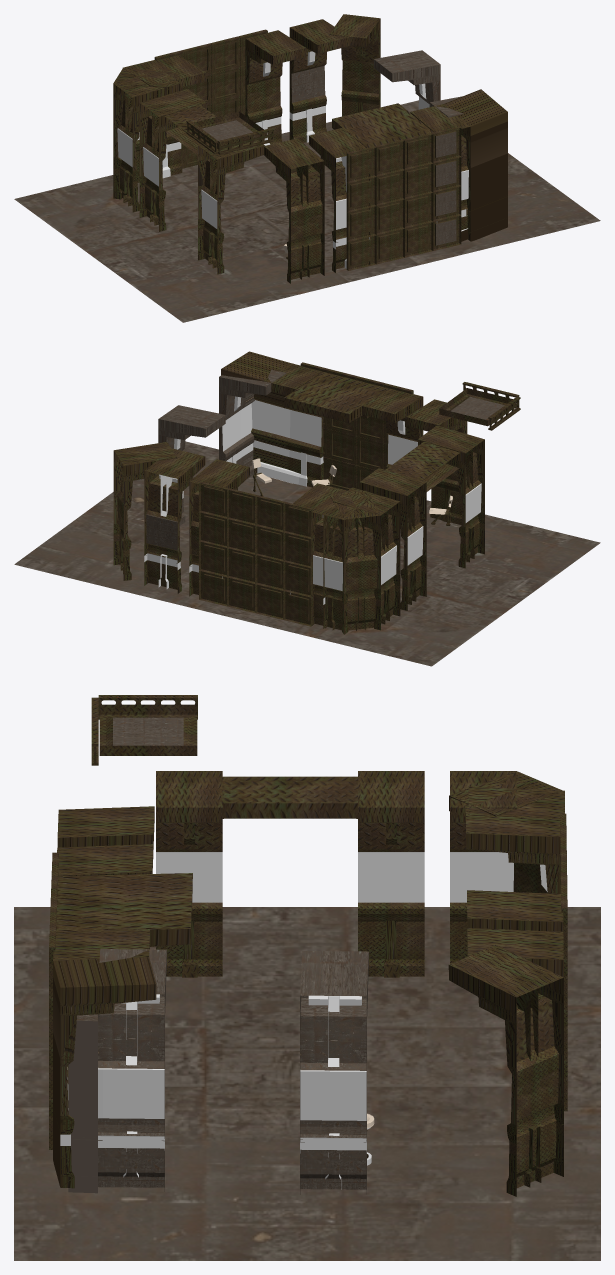
3 renders of one model, top to bottom at view 1: azimuth 30°, elevation 25°; view 2: azimuth 150°, elevation 25°; view 3: azimuth 270°, elevation 25°, orthographic. The views are drawn at different scales.
Visible parts, largest first — view 1: Plane, Wall.Bar.Back.Unfurnished.001, Wall.Internal.014, Wall.Internal.012, Wall.Internal.017, Wall.Bar.Back.Unfurnished.002, Wall.Internal.016, Wall.Internal.002, Wall.Internal.009, Wall.Internal.001, Wall.Internal.003, Wall.Internal.013 (+9 smaller); view 2: Plane, Wall.Bar.Back.Unfurnished.002, Wall.Internal.014, Wall.Internal.017, Wall.Internal.005, Wall.Bar.Back.Unfurnished.001, Wall.Internal.002, Wall.Internal.001, Wall.Internal.004, Wall.Internal.003, Wall.Internal.010, Wall.Internal.009 (+8 smaller); view 3: Plane, Wall.Internal.010, Wall.Internal.011, Wall.Internal.009, Wall.Internal.002, Wall.Internal.001, Wall.Internal.014, Wall.Bar.Back.Overhang, Ceiling.Panels, Wall.Internal.003, Wall.Door.Overhang, Wall.Internal.015 (+8 smaller).
Part boxes in pixels (left/top/right/bottom): Plane: left=14, top=100, right=600, bottom=322; Wall.Bar.Back.Unfurnished.001: left=346, top=126, right=461, bottom=270; Wall.Internal.014: left=410, top=89, right=507, bottom=248; Wall.Internal.012: left=264, top=138, right=324, bottom=283; Wall.Internal.017: left=289, top=19, right=350, bottom=142; Wall.Bar.Back.Unfurnished.002: left=154, top=29, right=267, bottom=168; Wall.Internal.016: left=245, top=30, right=306, bottom=145; Wall.Internal.002: left=139, top=89, right=206, bottom=231; Wall.Internal.009: left=329, top=14, right=380, bottom=116; Wall.Internal.001: left=198, top=140, right=264, bottom=274; Wall.Internal.003: left=113, top=69, right=180, bottom=212; Wall.Internal.013: left=309, top=127, right=369, bottom=272; Plane: left=14, top=441, right=600, bottom=666; Wall.Bar.Back.Unfurnished.002: left=199, top=481, right=312, bottom=626; Wall.Internal.014: left=221, top=351, right=323, bottom=487; Wall.Internal.017: left=144, top=448, right=205, bottom=593; Wall.Internal.005: left=310, top=489, right=371, bottom=634; Wall.Bar.Back.Unfurnished.001: left=300, top=362, right=413, bottom=490; Wall.Internal.002: left=359, top=468, right=426, bottom=610; Wall.Internal.001: left=418, top=425, right=484, bottom=568; Wall.Internal.004: left=329, top=490, right=380, bottom=633; Wall.Internal.003: left=333, top=487, right=400, bottom=630; Wall.Internal.010: left=219, top=370, right=286, bottom=479; Wall.Internal.009: left=113, top=442, right=177, bottom=580; Plane: left=14, top=907, right=600, bottom=1260; Wall.Internal.010: left=68, top=949, right=166, bottom=1193; Wall.Internal.011: left=300, top=951, right=368, bottom=1194; Wall.Internal.009: left=448, top=945, right=563, bottom=1196; Wall.Internal.002: left=358, top=771, right=424, bottom=977; Wall.Internal.001: left=156, top=771, right=222, bottom=977; Wall.Internal.014: left=53, top=929, right=156, bottom=1188; Wall.Bar.Back.Overhang: left=56, top=873, right=192, bottom=946; Ceiling.Panels: left=91, top=695, right=197, bottom=765; Wall.Internal.003: left=450, top=771, right=516, bottom=963; Wall.Door.Overhang: left=222, top=776, right=357, bottom=818; Wall.Internal.015: left=465, top=805, right=560, bottom=893.
Bounding box in the file's own units: 32.66 × 11.22 × 22.9.
Materials: 27 (12 with a texture image).
